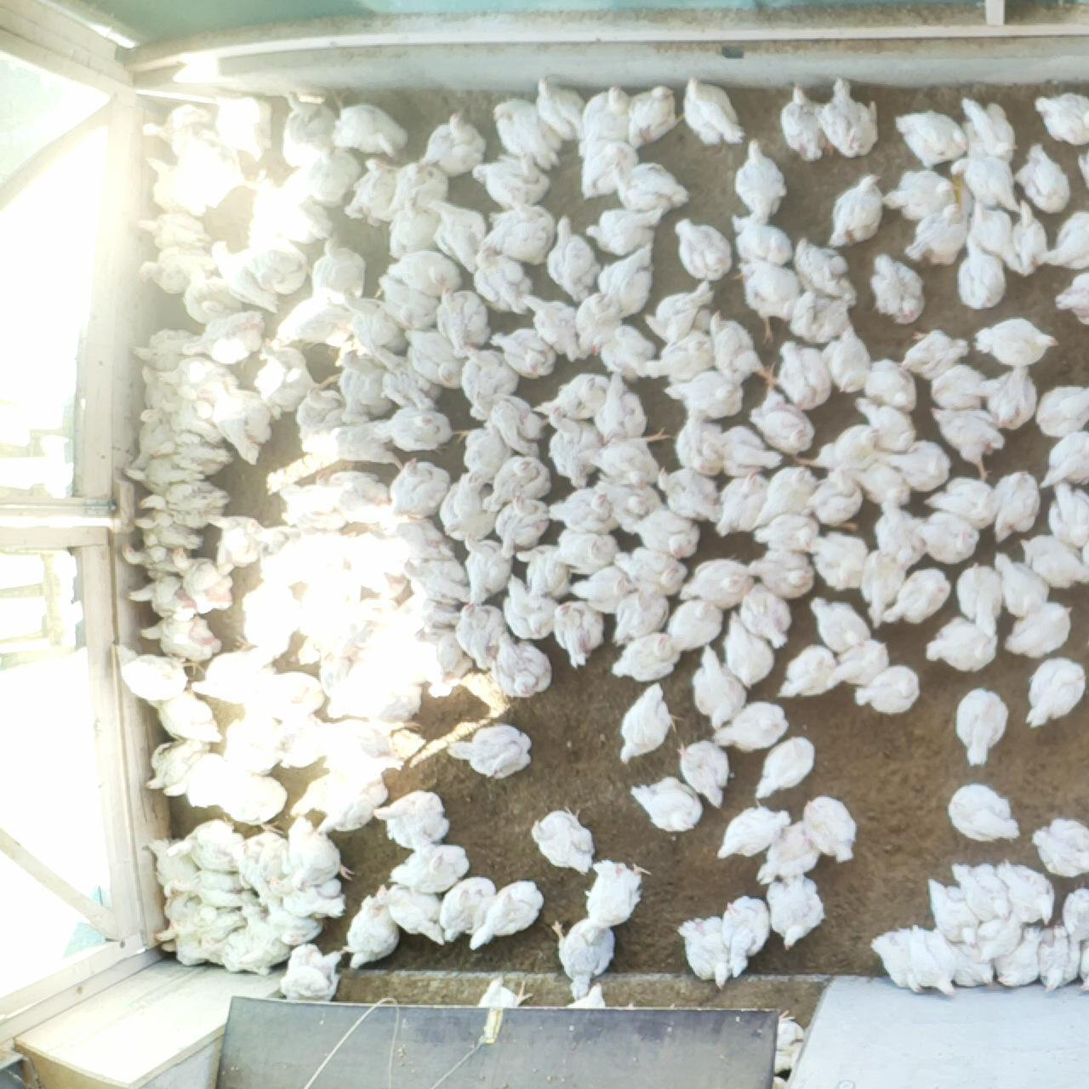chicken: (253, 335, 343, 418), (288, 756, 403, 819), (732, 257, 813, 345), (867, 924, 959, 998), (578, 855, 652, 946), (928, 405, 1011, 482), (309, 718, 423, 773), (185, 637, 277, 705), (467, 879, 547, 956), (201, 378, 274, 462), (922, 598, 1001, 675), (463, 388, 550, 457), (298, 418, 409, 472), (616, 681, 684, 769), (166, 134, 255, 200), (250, 174, 336, 242), (745, 376, 818, 456), (549, 917, 620, 999), (238, 574, 302, 664), (369, 788, 451, 858), (543, 213, 605, 305), (281, 814, 358, 888), (209, 234, 279, 315), (479, 198, 561, 267), (282, 141, 365, 209), (444, 721, 535, 783), (277, 942, 350, 1019), (762, 867, 827, 953), (328, 667, 424, 724), (817, 75, 882, 159), (328, 87, 408, 155), (753, 816, 828, 888), (547, 405, 610, 490), (969, 193, 1031, 279), (798, 421, 884, 483), (491, 96, 563, 170), (276, 89, 347, 164), (316, 769, 392, 839), (425, 195, 489, 278), (178, 308, 271, 365), (332, 533, 416, 596), (708, 307, 774, 387), (880, 164, 971, 222), (339, 888, 401, 973), (688, 644, 750, 729), (610, 158, 691, 223), (484, 626, 555, 700), (108, 642, 194, 703), (469, 150, 553, 212), (891, 105, 972, 169), (454, 337, 523, 412), (731, 137, 788, 227), (748, 463, 820, 534), (375, 879, 448, 949), (641, 279, 716, 347), (468, 973, 535, 1049), (268, 290, 350, 352), (437, 468, 503, 545), (401, 323, 472, 394), (165, 545, 237, 615), (574, 128, 643, 201), (922, 873, 990, 947), (210, 771, 291, 833), (866, 248, 929, 327), (971, 315, 1063, 369), (711, 799, 791, 861), (360, 598, 434, 665), (826, 170, 885, 254), (587, 429, 671, 488), (583, 472, 664, 533), (332, 345, 393, 426), (955, 96, 1019, 173), (516, 290, 585, 361), (372, 345, 443, 414), (954, 227, 1010, 314), (718, 892, 773, 980), (951, 685, 1010, 767), (342, 287, 412, 356), (1020, 656, 1087, 728), (206, 87, 272, 160), (681, 73, 746, 147), (306, 235, 370, 310), (713, 461, 772, 542), (947, 154, 1024, 216), (382, 154, 450, 224), (137, 610, 222, 666), (777, 80, 835, 162), (1009, 143, 1073, 217), (244, 666, 327, 723), (471, 241, 534, 316), (238, 235, 314, 297), (893, 325, 974, 383), (596, 241, 657, 318), (874, 487, 929, 572), (991, 854, 1055, 927), (675, 915, 738, 989), (162, 867, 257, 916), (945, 781, 1021, 842), (903, 201, 973, 267), (530, 804, 595, 875), (791, 234, 856, 305), (921, 475, 999, 534), (991, 548, 1054, 621), (709, 700, 791, 756), (678, 556, 763, 610), (421, 108, 489, 175), (214, 711, 283, 777), (162, 753, 240, 811), (800, 792, 861, 866), (614, 511, 706, 560), (949, 859, 1016, 926), (138, 101, 221, 155), (880, 568, 952, 630), (135, 482, 234, 527), (388, 844, 472, 897), (980, 360, 1040, 434), (265, 530, 347, 584), (817, 323, 876, 398), (461, 530, 517, 609), (386, 248, 465, 304), (754, 734, 818, 803), (627, 777, 703, 835), (639, 329, 719, 384), (594, 370, 651, 447), (530, 371, 614, 423), (141, 692, 220, 747), (1004, 602, 1080, 659), (1018, 530, 1089, 591), (438, 874, 499, 945), (481, 453, 552, 514), (673, 739, 733, 811), (548, 595, 606, 669), (452, 600, 510, 674), (743, 1006, 808, 1072), (858, 546, 909, 630), (144, 155, 213, 217), (345, 158, 405, 229), (662, 368, 747, 418), (502, 573, 561, 645), (437, 285, 494, 359), (655, 466, 726, 525), (720, 611, 773, 690), (322, 464, 395, 521), (376, 269, 441, 333), (706, 426, 783, 480), (144, 732, 212, 793), (672, 403, 728, 477), (933, 933, 1002, 993), (533, 74, 593, 143), (609, 580, 668, 650), (578, 82, 636, 153), (253, 888, 324, 946), (452, 423, 517, 486), (736, 581, 796, 649), (626, 82, 686, 150), (806, 595, 875, 654), (491, 492, 550, 561), (582, 208, 665, 257), (165, 821, 243, 873), (572, 287, 626, 362), (135, 244, 216, 294), (556, 981, 613, 1052), (854, 663, 925, 720), (488, 325, 559, 382), (386, 457, 451, 519), (991, 467, 1042, 546), (295, 603, 362, 663), (371, 405, 453, 454), (776, 642, 844, 701), (806, 465, 862, 536), (672, 215, 734, 279), (609, 630, 681, 685), (569, 561, 643, 614), (121, 572, 201, 621), (800, 535, 871, 590), (207, 510, 271, 571), (990, 923, 1049, 989), (385, 194, 443, 261), (591, 325, 659, 382), (119, 542, 205, 587), (883, 439, 952, 495), (772, 341, 828, 410), (1029, 816, 1089, 880), (277, 478, 352, 529), (741, 547, 817, 597), (265, 870, 344, 918), (659, 597, 723, 656), (851, 395, 917, 452), (611, 550, 689, 598), (122, 452, 207, 496), (551, 526, 620, 580), (240, 897, 294, 966), (915, 509, 980, 566), (1007, 197, 1055, 274), (727, 212, 794, 267), (790, 290, 852, 349), (825, 638, 890, 694), (1033, 922, 1084, 993), (259, 718, 330, 769), (514, 544, 574, 603), (143, 832, 204, 890), (160, 398, 228, 450), (382, 635, 448, 688), (1030, 89, 1089, 148), (1033, 207, 1089, 269), (750, 511, 827, 556), (547, 486, 619, 534), (862, 359, 922, 416), (128, 327, 204, 372), (127, 412, 181, 475), (154, 361, 241, 400), (154, 895, 226, 942), (129, 505, 204, 550), (220, 930, 290, 978), (1043, 476, 1089, 548), (952, 561, 1006, 622), (845, 460, 912, 509), (135, 210, 212, 252), (229, 833, 296, 881), (1037, 429, 1088, 491), (296, 380, 347, 441), (305, 567, 363, 619), (925, 365, 990, 410), (1033, 384, 1089, 435), (154, 440, 227, 478), (138, 363, 183, 421), (151, 934, 223, 966), (1052, 268, 1089, 329), (1058, 884, 1089, 944), (1077, 934, 1089, 996), (1076, 145, 1089, 196)
